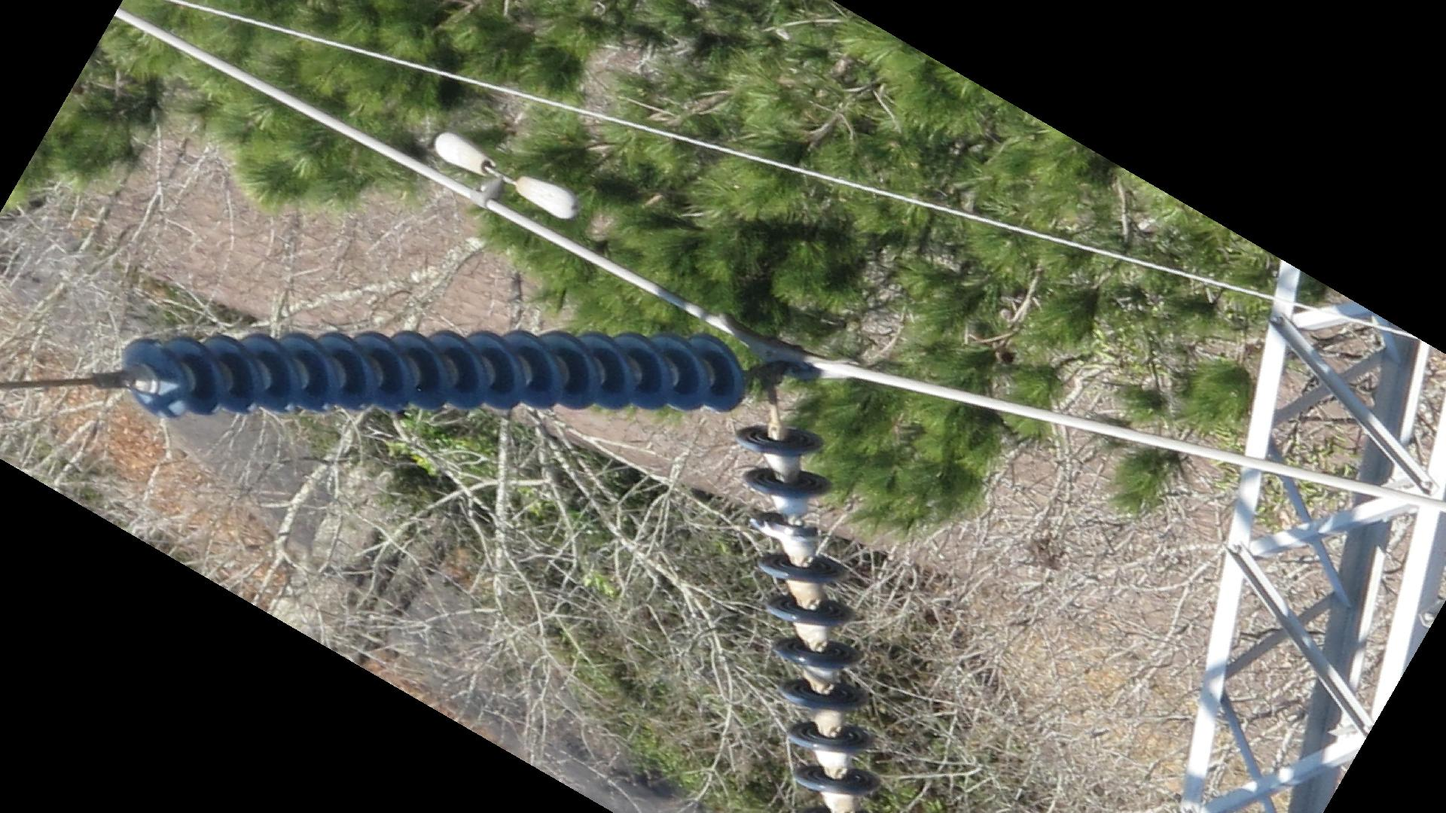insulator: (115, 322, 753, 426), (731, 419, 885, 813)
insulator_breakage: (747, 513, 825, 548)
